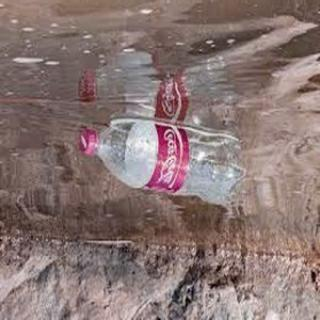Plastic: (75, 113, 245, 209)
